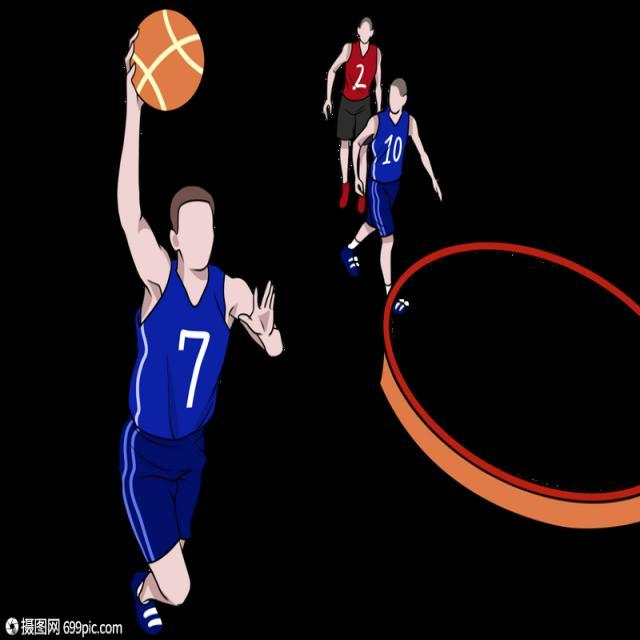rim: (131, 6, 204, 112)
